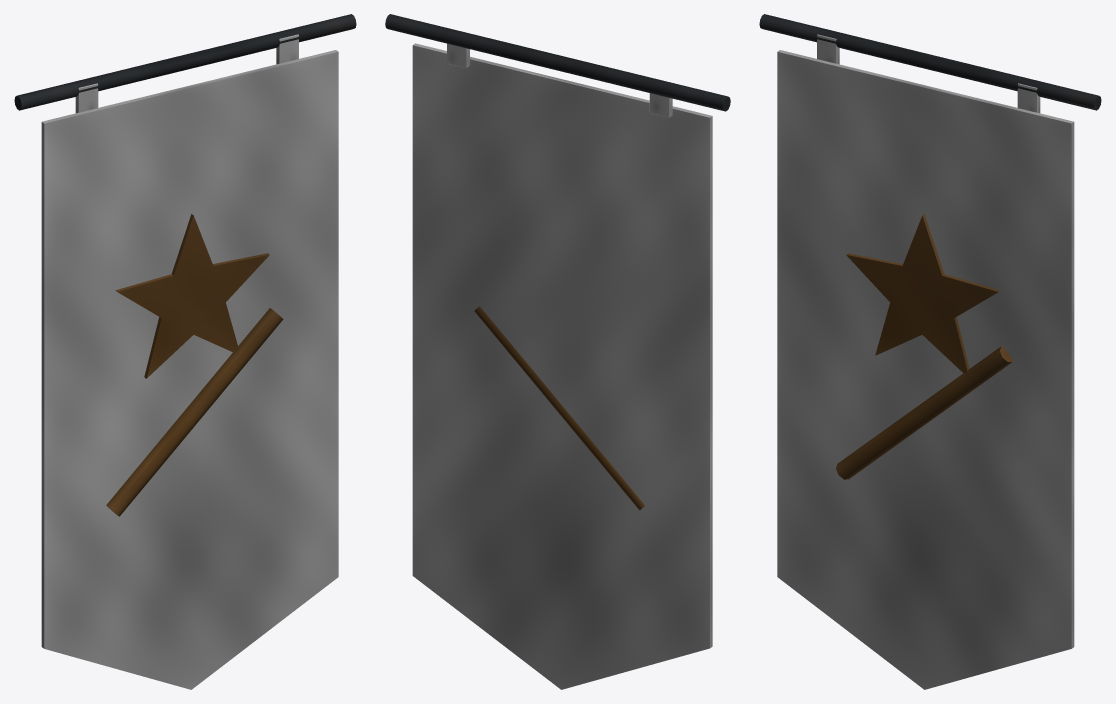
The model's file is Furn_Banner_MagicClub.fbx.
3 renders of one model, left to right at view 1: azimuth 30°, elevation 25°; view 2: azimuth 150°, elevation 25°; view 3: azimuth 330°, elevation 25°, orthographic.
Visible parts, largest first — view 1: Furn_Banner_MagicClub; view 2: Furn_Banner_MagicClub; view 3: Furn_Banner_MagicClub.
Part boxes in pixels (x1,y1,x2,y2): Furn_Banner_MagicClub: (14,14,356,689); Furn_Banner_MagicClub: (385,14,730,689); Furn_Banner_MagicClub: (759,14,1101,689).
Bounding box in the file's own units: 1 × 1.8 × 0.08.
3 materials, 3 textured.
